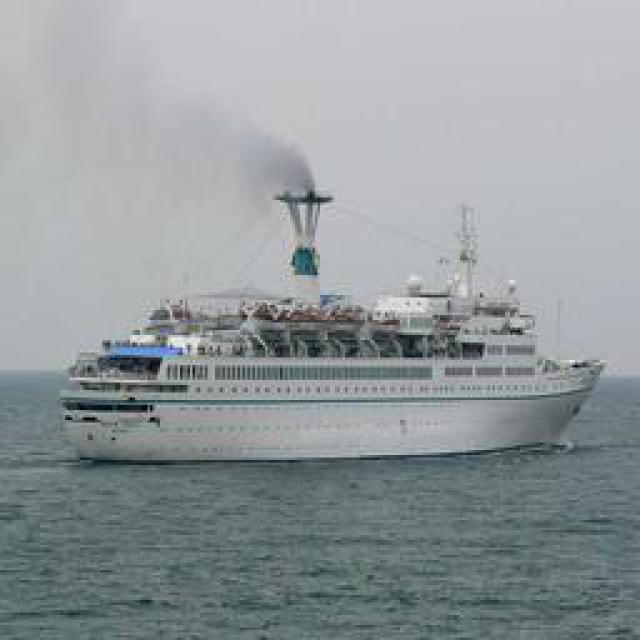Ship: (64, 225, 607, 470)
